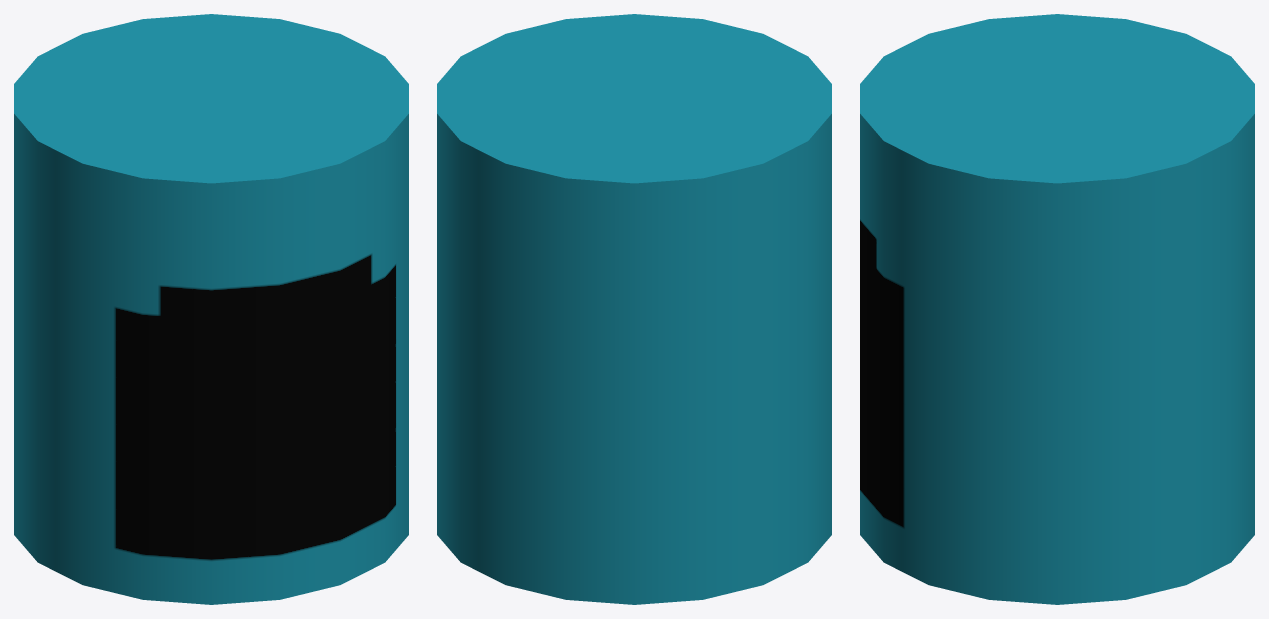
The model's file is Beans.FBX.
The picture shows the model from 3 angles, left to right: view 1: azimuth 30°, elevation 25°; view 2: azimuth 150°, elevation 25°; view 3: azimuth 270°, elevation 25°; orthographic projection.
Parts seen in each view (by area): view 1: Cylinder001; view 2: Cylinder001; view 3: Cylinder001.
Part boxes in pixels (x1,y1,x2,y2): Cylinder001: [14, 14, 408, 604]; Cylinder001: [437, 14, 831, 604]; Cylinder001: [860, 14, 1254, 604].
Bounding box in the file's own units: 41.05 × 47.61 × 40.43.
